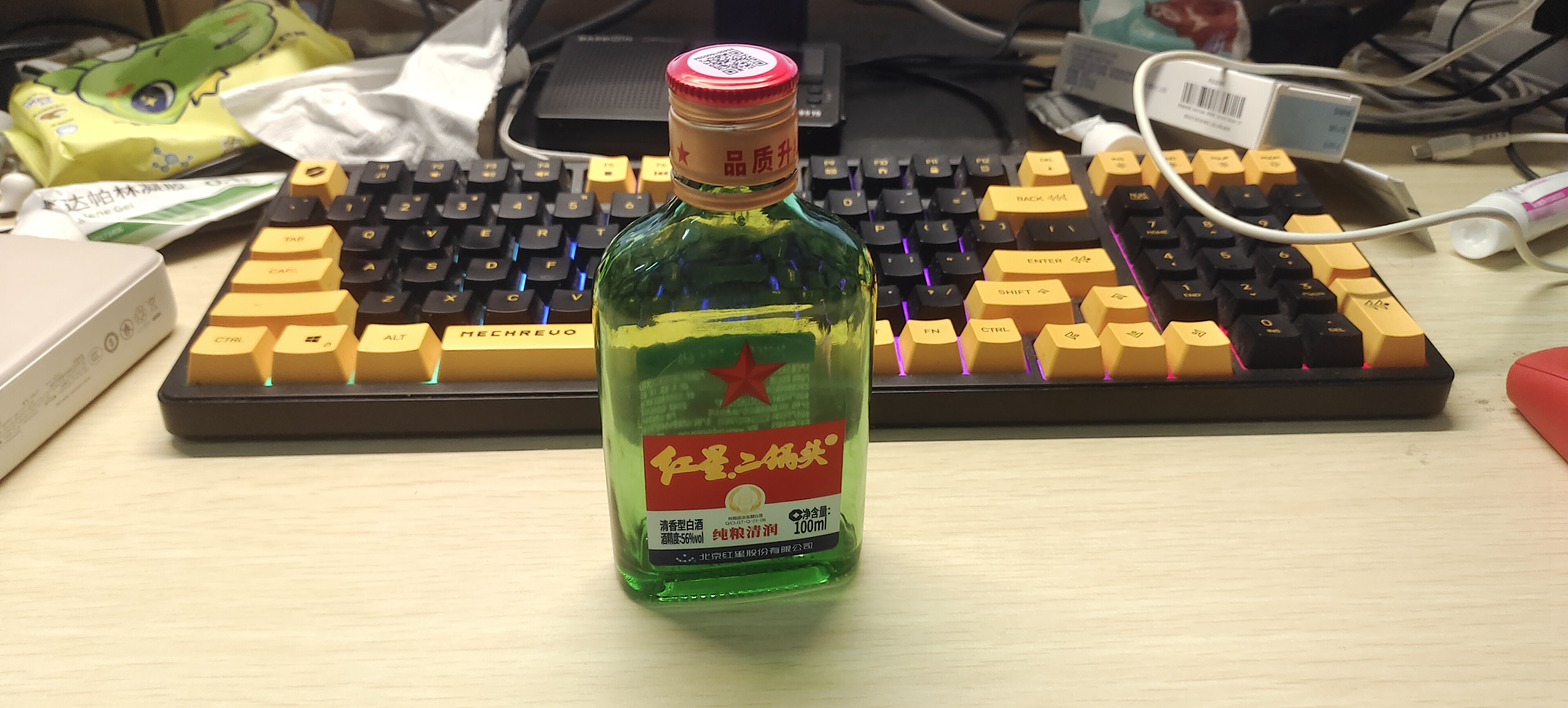redbull: (524, 55, 936, 643)
